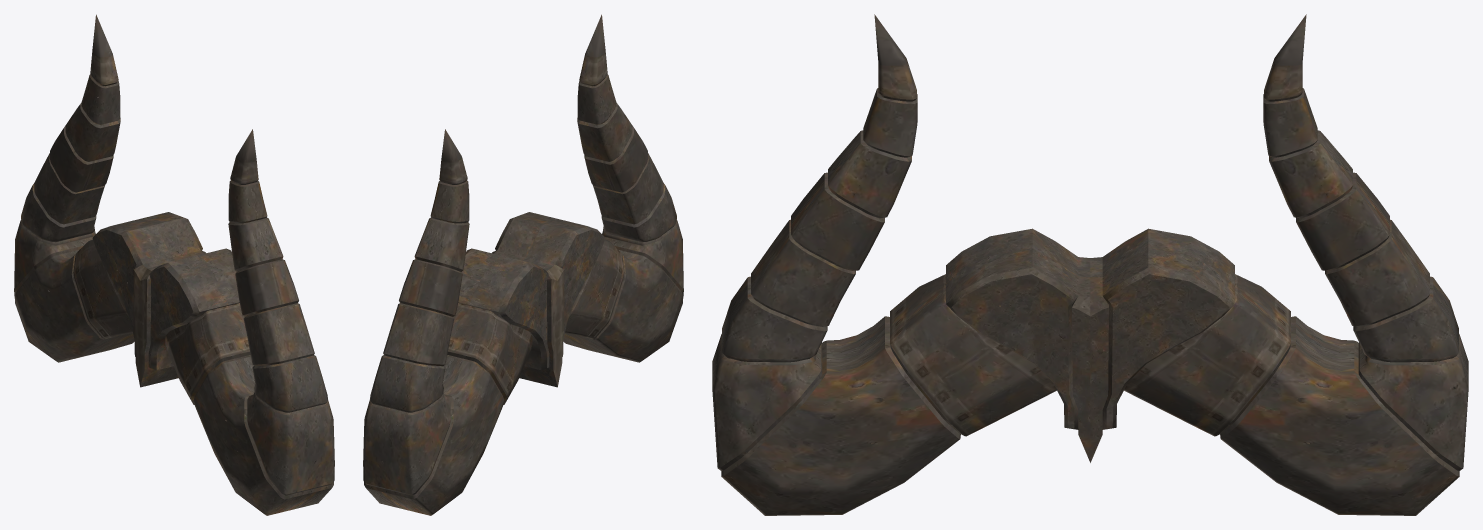
3 views of the same model, side by side, from view 1: azimuth 30°, elevation 25°; view 2: azimuth 150°, elevation 25°; view 3: azimuth 270°, elevation 25° (orthographic). The views are drawn at different scales.
Parts seen in each view (by area): view 1: SM_DR_Gateway_Zamorak_Ornament_01_LOD0; view 2: SM_DR_Gateway_Zamorak_Ornament_01_LOD0; view 3: SM_DR_Gateway_Zamorak_Ornament_01_LOD0.
Boxes of the visible parts, box(x1,y1,x2,y2) form: SM_DR_Gateway_Zamorak_Ornament_01_LOD0: box(14, 14, 334, 515); SM_DR_Gateway_Zamorak_Ornament_01_LOD0: box(363, 14, 683, 515); SM_DR_Gateway_Zamorak_Ornament_01_LOD0: box(712, 14, 1468, 515).
Size of the model in its own units: 0.5453 by 2.45 by 3.46.
Materials: 2 (2 with a texture image).
